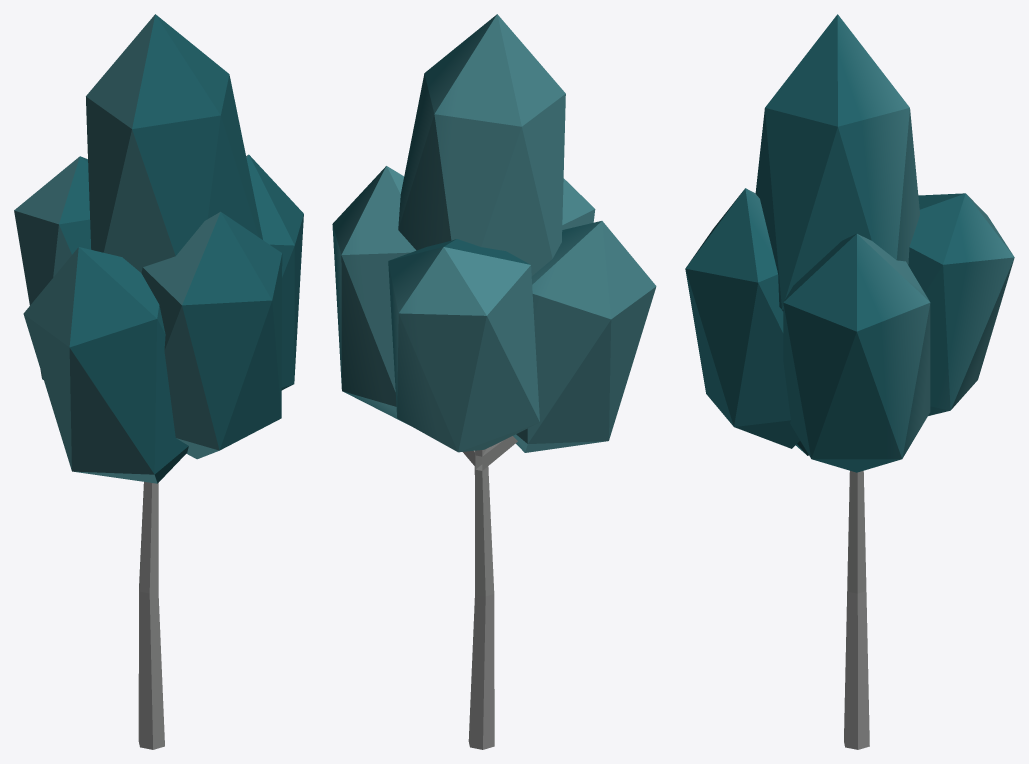
The model's file is Eucalipto.fbx.
The picture shows the model from 3 angles, left to right: view 1: azimuth 30°, elevation 25°; view 2: azimuth 150°, elevation 25°; view 3: azimuth 270°, elevation 25°; orthographic projection.
Visible parts, largest first — view 1: Eucalipto; view 2: Eucalipto; view 3: Eucalipto.
Part boxes in pixels (x1,y1,x2,y2): Eucalipto: (14,14,303,749); Eucalipto: (332,14,656,749); Eucalipto: (685,14,1014,749).
Bounding box in the file's own units: 115 × 288 × 118.
